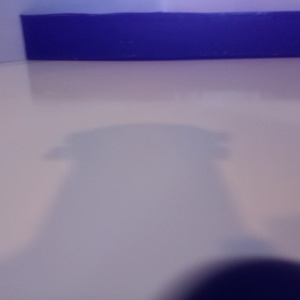zone: (20, 11, 300, 61)
